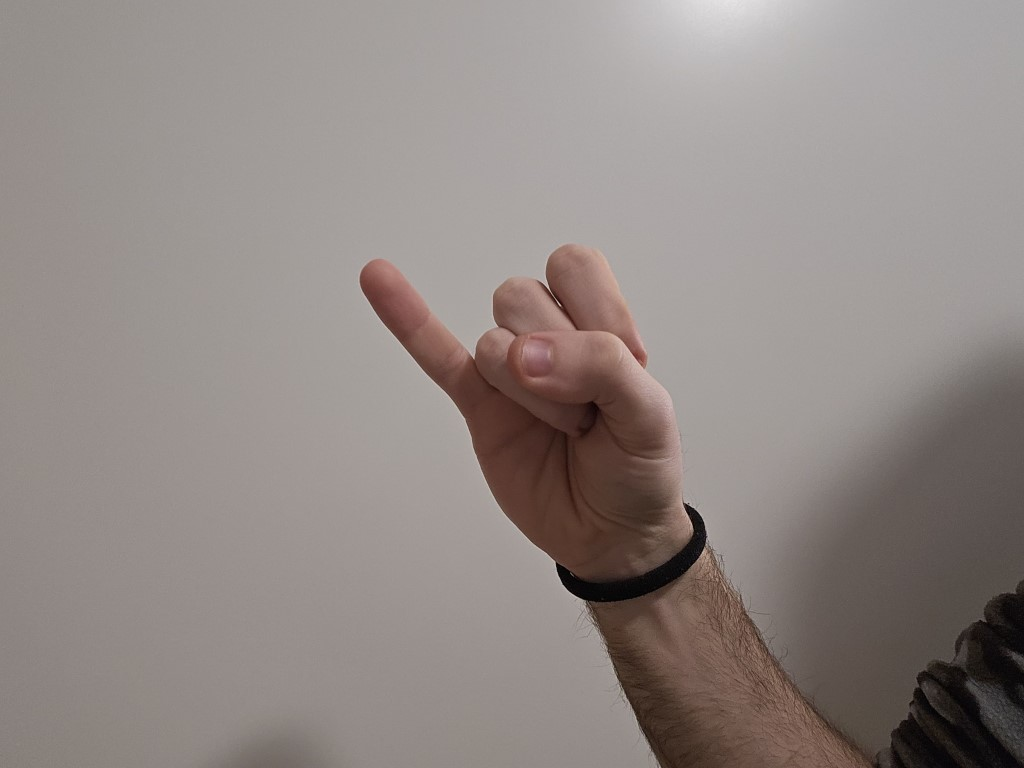j: (326, 222, 695, 550)
